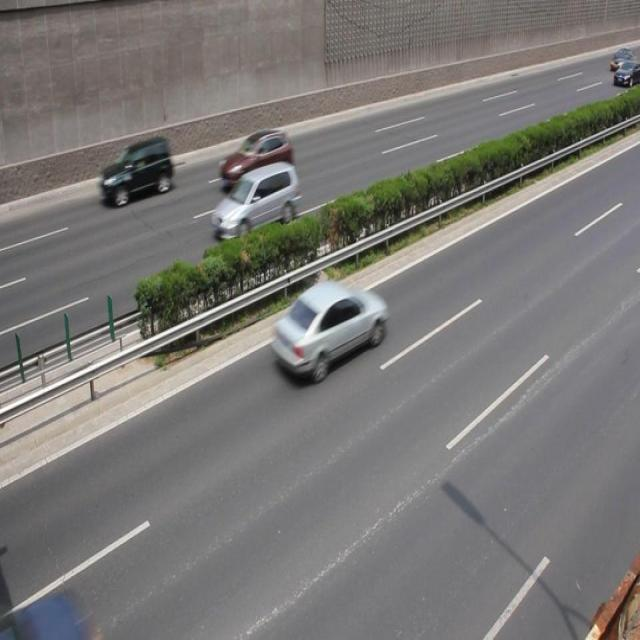car: (268, 282, 385, 382), (211, 160, 300, 249), (98, 132, 174, 208), (218, 130, 294, 196)
